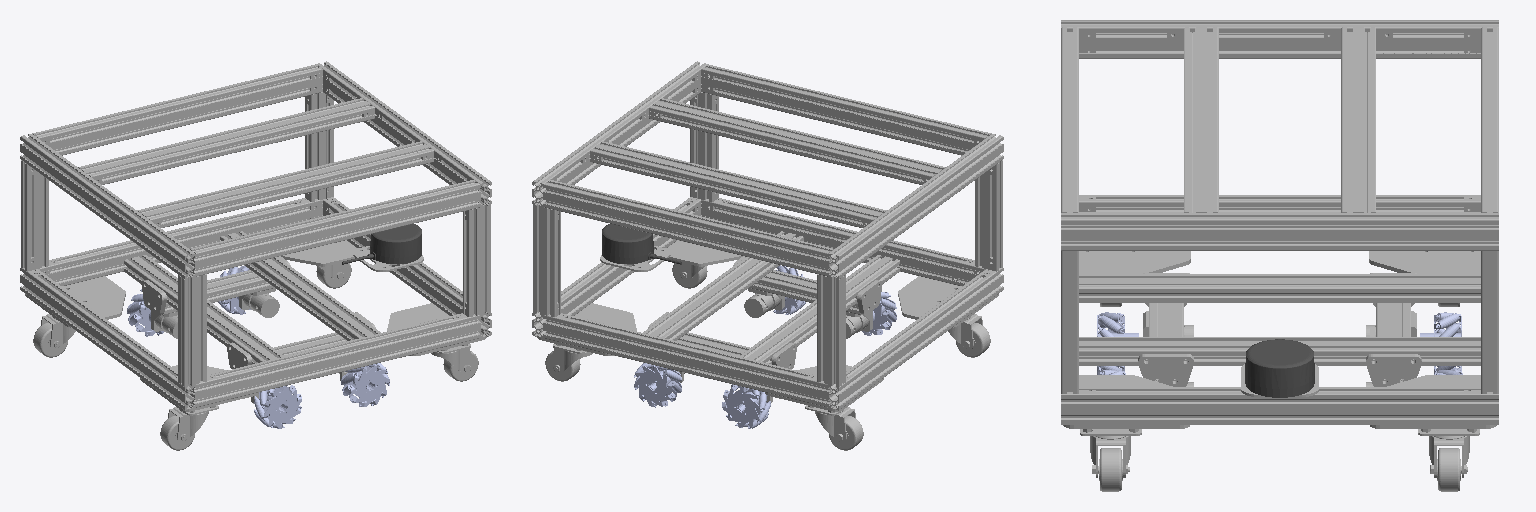
URDF robot description (chassis):
<?xml version="1.0" encoding="utf-8"?>
<!-- This URDF was automatically created by SolidWorks to URDF Exporter! Originally created by Stephen Brawner (brawner@gmail.com) 
     Commit Version: 1.6.0-4-g7f85cfe  Build Version: 1.6.7995.38578
     For more information, please see http://wiki.ros.org/sw_urdf_exporter -->
<robot
  name="chassis">
  <link
    name="base_link">
    <inertial>
      <origin
        xyz="-0.0677499107745156 4.37244521654945E-05 0.068392625026961"
        rpy="0 0 0" />
      <mass
        value="3.22393142434326" />
      <inertia
        ixx="0.0187770652552215"
        ixy="-6.94990243935453E-08"
        ixz="-3.69534006071456E-08"
        iyy="0.0204839258293414"
        iyz="3.35294125226089E-11"
        izz="0.0375088689684911" />
    </inertial>
    <visual>
      <origin
        xyz="0 0 0"
        rpy="0 0 0" />
      <geometry>
        <mesh
          filename="package://chassis/meshes/base_link.STL" />
      </geometry>
      <material
        name="">
        <color
          rgba="0.752941176470588 0.752941176470588 0.752941176470588 1" />
      </material>
    </visual>
    <collision>
      <origin
        xyz="0 0 0"
        rpy="0 0 0" />
      <geometry>
        <mesh
          filename="package://chassis/meshes/base_link.STL" />
      </geometry>
    </collision>
  </link>
  <link
    name="scan_Link">
    <inertial>
      <origin
        xyz="-0.00250631530381856 4.56584855934583E-06 0.00608264669060467"
        rpy="0 0 0" />
      <mass
        value="0.037430735750063" />
      <inertia
        ixx="2.80476493089794E-05"
        ixy="-2.19899695273233E-09"
        ixz="-1.07121854785533E-06"
        iyy="3.36164872296788E-05"
        iyz="-6.83968852525854E-10"
        izz="4.50845442757729E-05" />
    </inertial>
    <visual>
      <origin
        xyz="0 0 0"
        rpy="0 0 0" />
      <geometry>
        <mesh
          filename="package://chassis/meshes/scan_Link.STL" />
      </geometry>
      <material
        name="">
        <color
          rgba="0.376470588235294 0.376470588235294 0.376470588235294 1" />
      </material>
    </visual>
    <collision>
      <origin
        xyz="0 0 0"
        rpy="0 0 0" />
      <geometry>
        <mesh
          filename="package://chassis/meshes/scan_Link.STL" />
      </geometry>
    </collision>
  </link>
  <joint
    name="scan_Joint"
    type="fixed">
    <origin
      xyz="0.177 0 0.050075"
      rpy="0 0 0" />
    <parent
      link="base_link" />
    <child
      link="scan_Link" />
    <axis
      xyz="0 0 0" />
  </joint>
  <link
    name="FL_Link">
    <inertial>
      <origin
        xyz="-1.51557746422698E-05 -0.0177688130626312 3.72943823484378E-05"
        rpy="0 0 0" />
      <mass
        value="0.0570991876952128" />
      <inertia
        ixx="2.10306084770148E-05"
        ixy="-3.63266955109737E-09"
        ixz="-8.13885817974439E-09"
        iyy="3.39619809949368E-05"
        iyz="8.94029294404181E-09"
        izz="2.1041688188619E-05" />
    </inertial>
    <visual>
      <origin
        xyz="0 0 0"
        rpy="0 0 0" />
      <geometry>
        <mesh
          filename="package://chassis/meshes/FL_Link.STL" />
      </geometry>
      <material
        name="">
        <color
          rgba="0.792156862745098 0.819607843137255 0.933333333333333 1" />
      </material>
    </visual>
    <collision>
      <origin
        xyz="0 0 0"
        rpy="0 0 0" />
      <geometry>
        <mesh
          filename="package://chassis/meshes/FL_Link.STL" />
      </geometry>
    </collision>
  </link>
  <joint
    name="FL_Joint"
    type="continuous">
    <origin
      xyz="0.011984 0.207 -0.06187"
      rpy="0 0 0" />
    <parent
      link="base_link" />
    <child
      link="FL_Link" />
    <axis
      xyz="0 -1 0" />
  </joint>
  <link
    name="FR_Link">
    <inertial>
      <origin
        xyz="3.73138131217893E-05 0.0177656337718318 -1.51714675786438E-05"
        rpy="0 0 0" />
      <mass
        value="0.0570982559843118" />
      <inertia
        ixx="2.10412305440831E-05"
        ixy="-8.94174558072254E-09"
        ixz="-8.14257477486789E-09"
        iyy="3.39612560042682E-05"
        iyz="3.63772364271833E-09"
        izz="2.10301739676632E-05" />
    </inertial>
    <visual>
      <origin
        xyz="0 0 0"
        rpy="0 0 0" />
      <geometry>
        <mesh
          filename="package://chassis/meshes/FR_Link.STL" />
      </geometry>
      <material
        name="">
        <color
          rgba="0.792156862745098 0.819607843137255 0.933333333333333 1" />
      </material>
    </visual>
    <collision>
      <origin
        xyz="0 0 0"
        rpy="0 0 0" />
      <geometry>
        <mesh
          filename="package://chassis/meshes/FR_Link.STL" />
      </geometry>
    </collision>
  </link>
  <joint
    name="FR_Joint"
    type="continuous">
    <origin
      xyz="0.011984 -0.206 -0.06187"
      rpy="0 0 0" />
    <parent
      link="base_link" />
    <child
      link="FR_Link" />
    <axis
      xyz="0 1 0" />
  </joint>
  <link
    name="BL_Link">
    <inertial>
      <origin
        xyz="3.7313813121137E-05 -0.0177656337718317 1.51714675792752E-05"
        rpy="0 0 0" />
      <mass
        value="0.0570982559843118" />
      <inertia
        ixx="2.10412305440832E-05"
        ixy="8.94174558053171E-09"
        ixz="8.14257477489918E-09"
        iyy="3.39612560042682E-05"
        iyz="3.63772364284194E-09"
        izz="2.10301739676631E-05" />
    </inertial>
    <visual>
      <origin
        xyz="0 0 0"
        rpy="0 0 0" />
      <geometry>
        <mesh
          filename="package://chassis/meshes/BL_Link.STL" />
      </geometry>
      <material
        name="">
        <color
          rgba="0.792156862745098 0.819607843137255 0.933333333333333 1" />
      </material>
    </visual>
    <collision>
      <origin
        xyz="0 0 0"
        rpy="0 0 0" />
      <geometry>
        <mesh
          filename="package://chassis/meshes/BL_Link.STL" />
      </geometry>
    </collision>
  </link>
  <joint
    name="BL_Joint"
    type="continuous">
    <origin
      xyz="-0.14302 0.206 -0.06187"
      rpy="0 0 0" />
    <parent
      link="base_link" />
    <child
      link="BL_Link" />
    <axis
      xyz="0 -1 0" />
  </joint>
  <link
    name="BR_Link">
    <inertial>
      <origin
        xyz="1.51557746424433E-05 0.017768813062631 3.72943823481672E-05"
        rpy="0 0 0" />
      <mass
        value="0.0570991876952133" />
      <inertia
        ixx="2.10306084770149E-05"
        ixy="-3.63266955067876E-09"
        ixz="8.13885817975177E-09"
        iyy="3.3961980994937E-05"
        iyz="-8.9402929444889E-09"
        izz="2.10416881886191E-05" />
    </inertial>
    <visual>
      <origin
        xyz="0 0 0"
        rpy="0 0 0" />
      <geometry>
        <mesh
          filename="package://chassis/meshes/BR_Link.STL" />
      </geometry>
      <material
        name="">
        <color
          rgba="0.792156862745098 0.819607843137255 0.933333333333333 1" />
      </material>
    </visual>
    <collision>
      <origin
        xyz="0 0 0"
        rpy="0 0 0" />
      <geometry>
        <mesh
          filename="package://chassis/meshes/BR_Link.STL" />
      </geometry>
    </collision>
  </link>
  <joint
    name="BR_Joint"
    type="continuous">
    <origin
      xyz="-0.14302 -0.207 -0.06187"
      rpy="0 0 0" />
    <parent
      link="base_link" />
    <child
      link="BR_Link" />
    <axis
      xyz="0 1 0" />
  </joint>
</robot>

--- What the picture shows (computed from the rendered views, not written in the file) ---
The picture shows the robot from 3 angles, left to right: view 1: azimuth 30°, elevation 25°; view 2: azimuth 150°, elevation 25°; view 3: azimuth 270°, elevation 25°; orthographic projection.
Robot: chassis — 6 links, 5 joints (4 continuous, 1 fixed); root link base_link; default pose: every joint at zero.
Links seen in each view (by area): view 1: base_link, scan_Link, BR_Link, FR_Link, BL_Link; view 2: base_link, scan_Link, FL_Link, BL_Link, BR_Link; view 3: base_link, scan_Link, BR_Link, BL_Link.
Link boxes in pixels (<box>): base_link: <box>20,61,491,450</box>; scan_Link: <box>342,224,421,264</box>; BR_Link: <box>254,385,301,428</box>; FR_Link: <box>341,363,389,406</box>; BL_Link: <box>127,289,163,336</box>; base_link: <box>532,61,1003,450</box>; scan_Link: <box>602,224,681,264</box>; FL_Link: <box>634,363,681,407</box>; BL_Link: <box>722,384,770,428</box>; BR_Link: <box>862,292,896,335</box>; base_link: <box>1061,20,1498,491</box>; scan_Link: <box>1245,339,1314,397</box>; BR_Link: <box>1097,312,1138,374</box>; BL_Link: <box>1420,312,1461,374</box>.
Bounding box of the posed robot: 0.5608 × 0.5 × 0.3552 m (x, y, z).
Meshes: 6 distinct files referenced, 6 mesh visuals loaded (6 binary STL).
